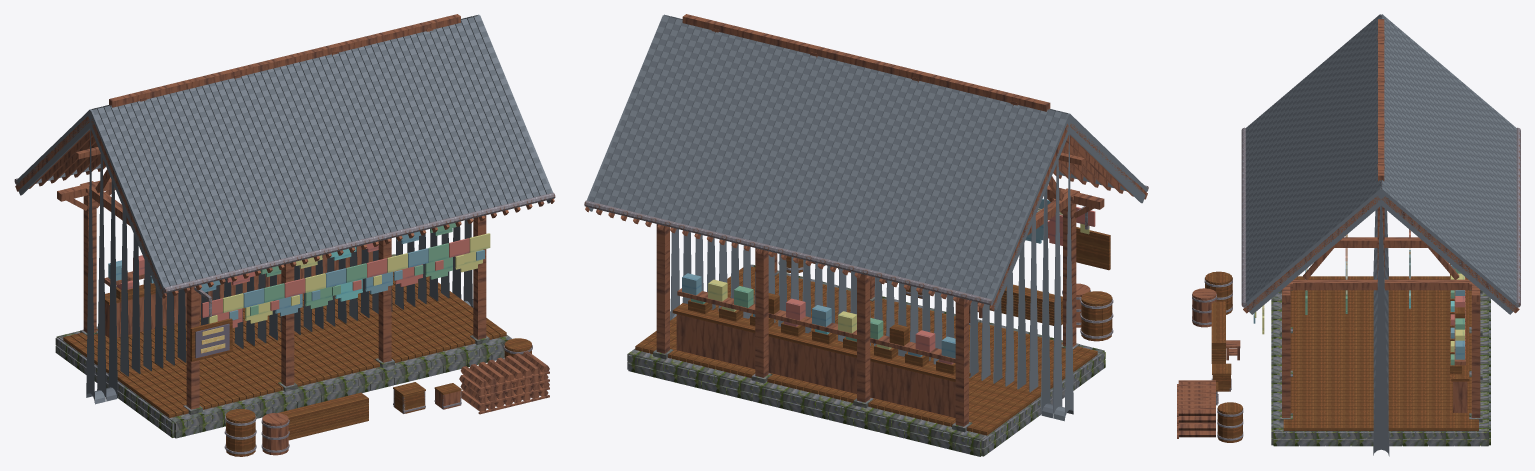
File: tradet.glb
3 views of the same model, side by side, from view 1: azimuth 30°, elevation 25°; view 2: azimuth 150°, elevation 25°; view 3: azimuth 270°, elevation 25° (orthographic). The views are drawn at different scales.
Visible parts, largest first — view 1: tradet_takpanna_ljus, tradet_takpanna_mörk, tradet_ljust_virke, tradet_mörkt_virke, tradet_fot_sten, tradet_järn, tradet_tyg_blått, tradet_tyg_rött, tradet_tyg_gult, tradet_sockel, tradet_tyg_grönt, tradet_skyltfält; view 2: tradet_takpanna_ljus, tradet_takpanna_mörk, tradet_mörkt_virke, tradet_ljust_virke, tradet_fot_sten, tradet_järn, tradet_sockel, tradet_tyg_rött, tradet_tyg_blått, tradet_tyg_gult, tradet_tyg_grönt, tradet_sten; view 3: tradet_takpanna_ljus, tradet_takpanna_mörk, tradet_ljust_virke, tradet_mörkt_virke, tradet_fot_sten, tradet_sockel, tradet_järn, tradet_tyg_blått, tradet_tyg_grönt, tradet_sten.
Part boxes in pixels (box(x1,y1,x2,y2)): tradet_takpanna_ljus: box(15, 14, 552, 404); tradet_takpanna_mörk: box(18, 16, 551, 401); tradet_ljust_virke: box(63, 271, 531, 456); tradet_mörkt_virke: box(15, 14, 554, 455); tradet_fot_sten: box(55, 254, 512, 438); tradet_järn: box(14, 178, 555, 454); tradet_tyg_blått: box(108, 231, 484, 320); tradet_tyg_rött: box(116, 238, 469, 327); tradet_tyg_gult: box(208, 233, 490, 323); tradet_sockel: box(57, 254, 511, 437); tradet_tyg_grönt: box(250, 223, 456, 315); tradet_skyltfält: box(195, 323, 229, 358); tradet_takpanna_ljus: box(586, 14, 1147, 421); tradet_takpanna_mörk: box(588, 16, 1126, 418); tradet_mörkt_virke: box(585, 14, 1147, 426); tradet_ljust_virke: box(635, 227, 1112, 435); tradet_fot_sten: box(627, 264, 1105, 456); tradet_järn: box(584, 185, 1148, 338); tradet_sockel: box(629, 264, 1103, 455); tradet_tyg_rött: box(784, 207, 1095, 364); tradet_tyg_blått: box(682, 198, 1050, 358); tradet_tyg_gult: box(708, 212, 1089, 349); tradet_tyg_grönt: box(691, 286, 883, 341); tradet_sten: box(653, 270, 1079, 432); tradet_takpanna_ljus: box(1243, 14, 1518, 447); tradet_takpanna_mörk: box(1245, 15, 1516, 456); tradet_ljust_virke: box(1205, 234, 1478, 442); tradet_mörkt_virke: box(1177, 19, 1519, 438); tradet_fot_sten: box(1271, 297, 1490, 446); tradet_sockel: box(1273, 292, 1488, 445); tradet_järn: box(1192, 127, 1520, 440); tradet_tyg_blått: box(1253, 250, 1464, 359); tradet_tyg_grönt: box(1305, 269, 1464, 365); tradet_sten: box(1279, 290, 1482, 422).
Bounding box in the file's own units: 14.4 × 10.46 × 11.96.
16 materials, 11 textured.
